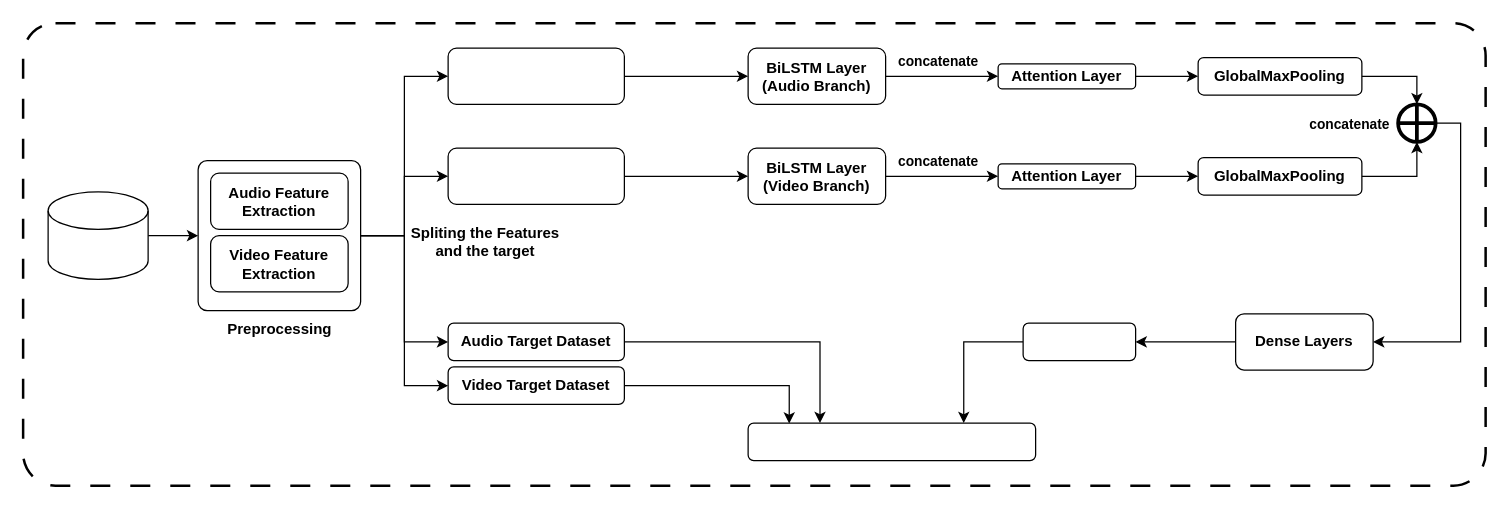
Image size: 1508x508. Some labels were removed from this diagram. Each missing label, with the centre of its shape:
"Audio Feature Dataset (38 features)" belongs at [535,75].
"DAIC-WOZ dataset" belongs at [97,235].
"Evaluation" belongs at [891,441].
"Predictions" belongs at [1079,341].
"Video Feature Dataset (378 features)" belongs at [535,175].
